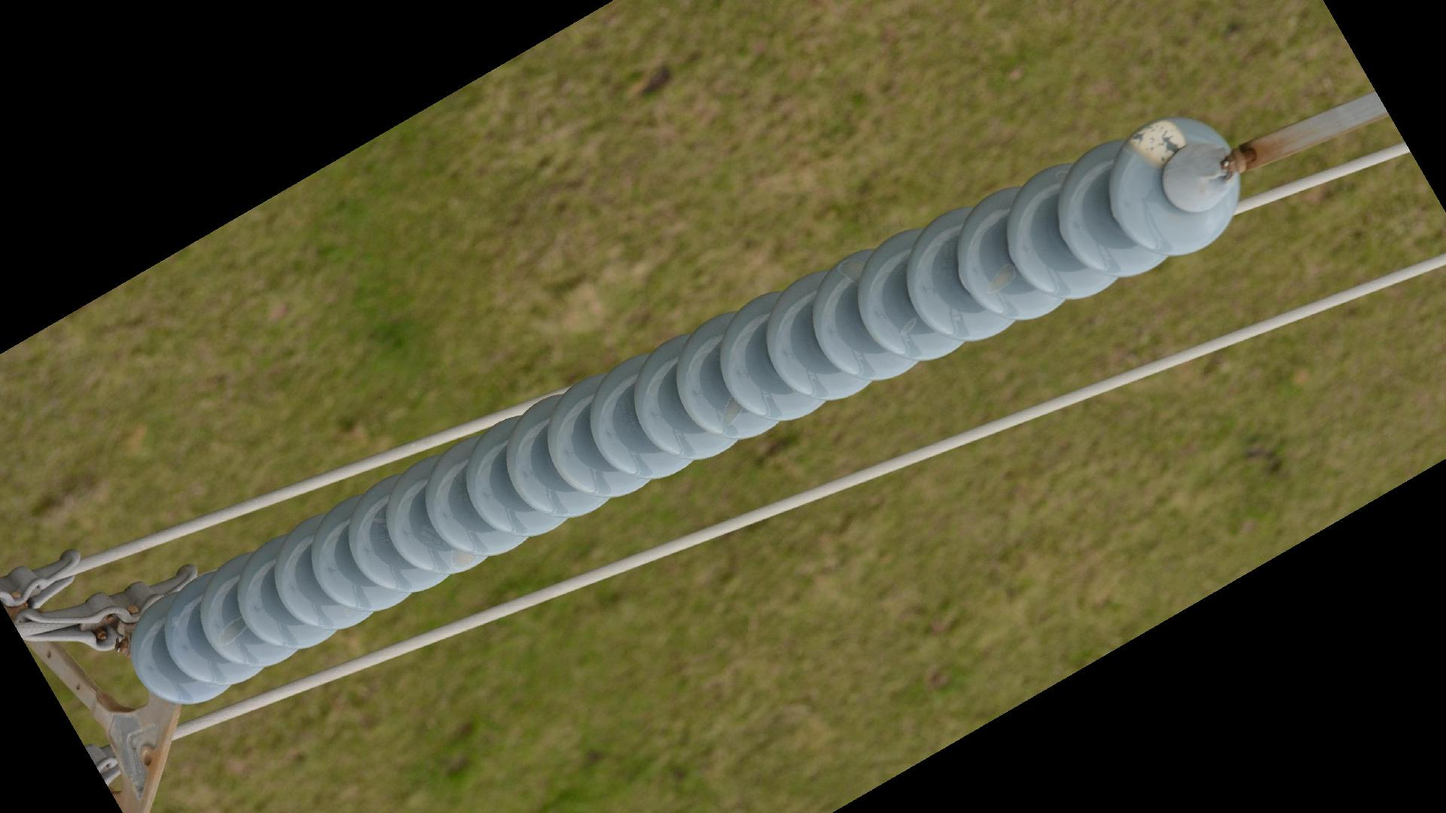insulator: (121, 107, 1245, 711)
insulator_flashover: (1124, 117, 1188, 172)
